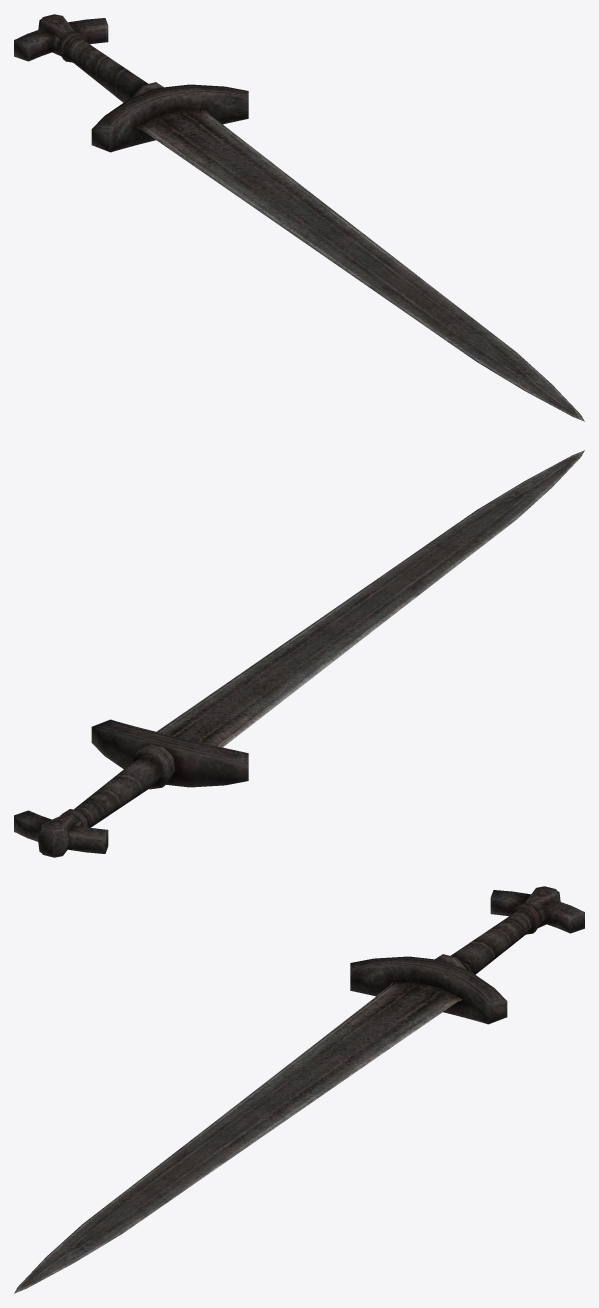
The model's file is iron-sword.glb.
3 views of the same model, one above another, from view 1: azimuth 30°, elevation 25°; view 2: azimuth 150°, elevation 25°; view 3: azimuth 330°, elevation 25° (orthographic).
Visible parts, largest first — view 1: IronLongSword01:0; view 2: IronLongSword01:0; view 3: IronLongSword01:0.
Part boxes in pixels (left/top/right/bottom): IronLongSword01:0: left=14, top=14, right=584, bottom=421; IronLongSword01:0: left=14, top=450, right=584, bottom=857; IronLongSword01:0: left=14, top=886, right=584, bottom=1293.
Size of the model in its own units: 0.1653 by 0.0409 by 0.98.
1 material, 1 textured.
